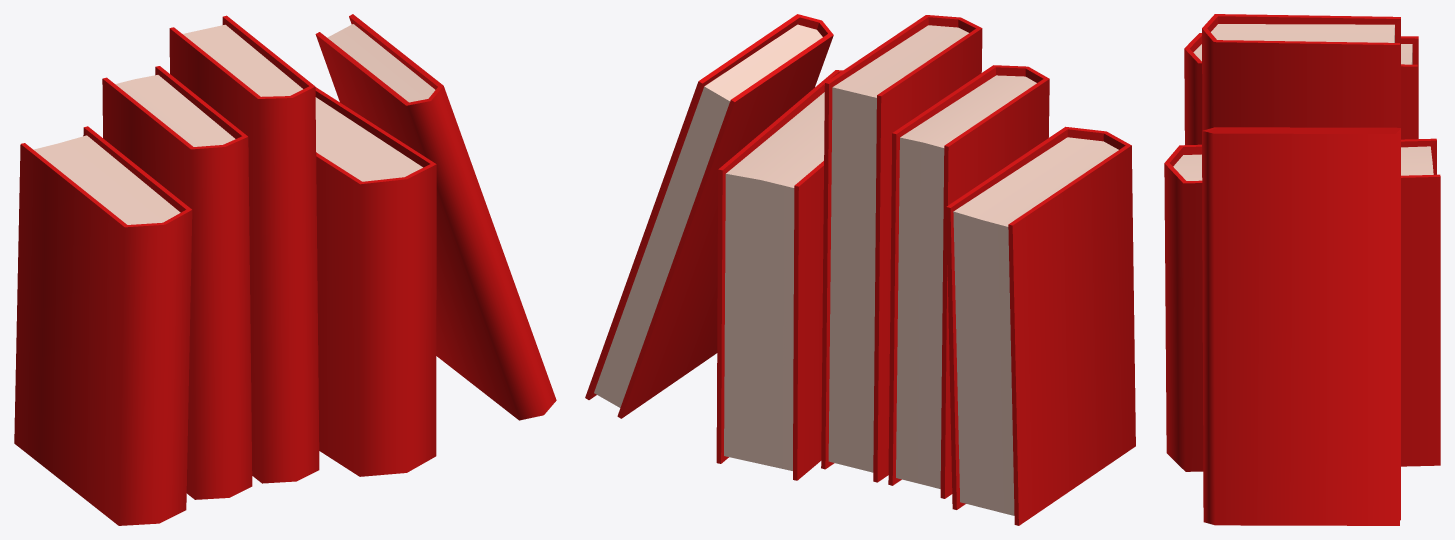
Rendered from Books.FBX.
The picture shows the model from 3 angles, left to right: view 1: azimuth 30°, elevation 25°; view 2: azimuth 150°, elevation 25°; view 3: azimuth 270°, elevation 25°; orthographic projection. The views are drawn at different scales.
Visible parts, largest first — view 1: book1, book4, book3, book2, book5; view 2: book1, book4, book3, book5, book2; view 3: book5, book4, book3, book1.
Boxes of the visible parts, x1,y1,x2,y2 form: book1: [14, 126, 192, 525]; book4: [315, 87, 436, 476]; book3: [169, 15, 319, 483]; book2: [102, 66, 252, 499]; book5: [315, 14, 556, 420]; book1: [946, 126, 1135, 525]; book4: [716, 70, 842, 480]; book3: [821, 15, 982, 482]; book5: [585, 14, 833, 418]; book2: [888, 65, 1049, 498]; book5: [1202, 127, 1400, 525]; book4: [1164, 138, 1440, 471]; book3: [1202, 14, 1400, 130]; book1: [1184, 33, 1418, 144].
Size of the model in its own units: 1.93 by 1.59 by 1.05.
